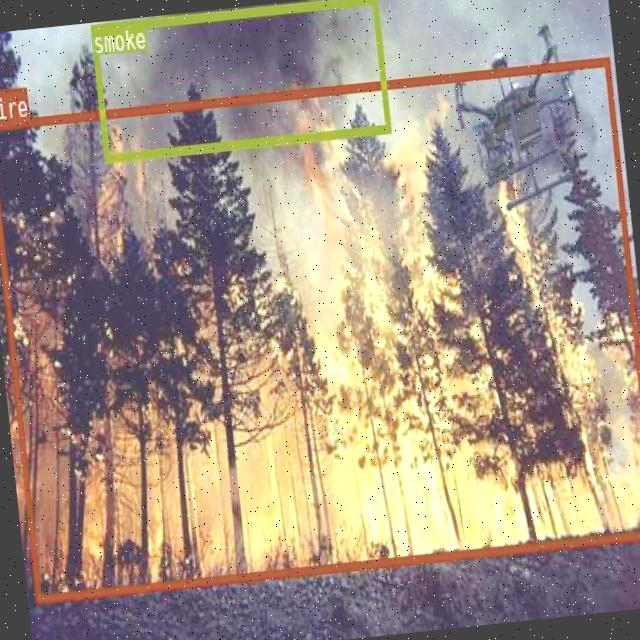fire: (0, 55, 640, 602)
smoke: (88, 0, 390, 161)
